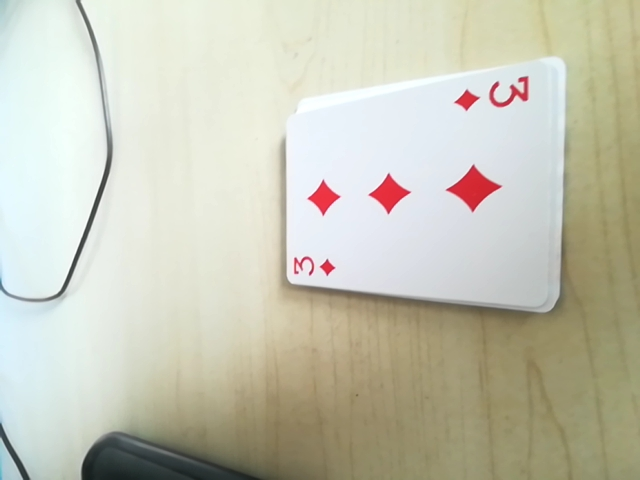fk 3: (455, 69, 538, 120), (288, 244, 345, 287)
